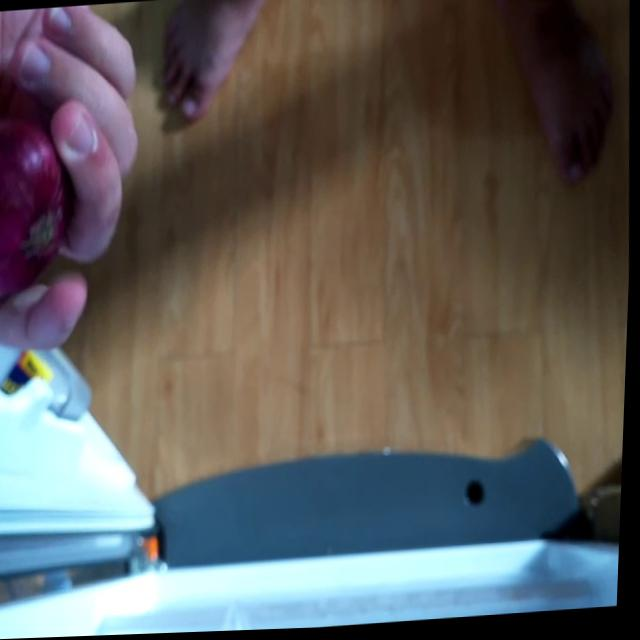onion: (0, 114, 76, 309)
